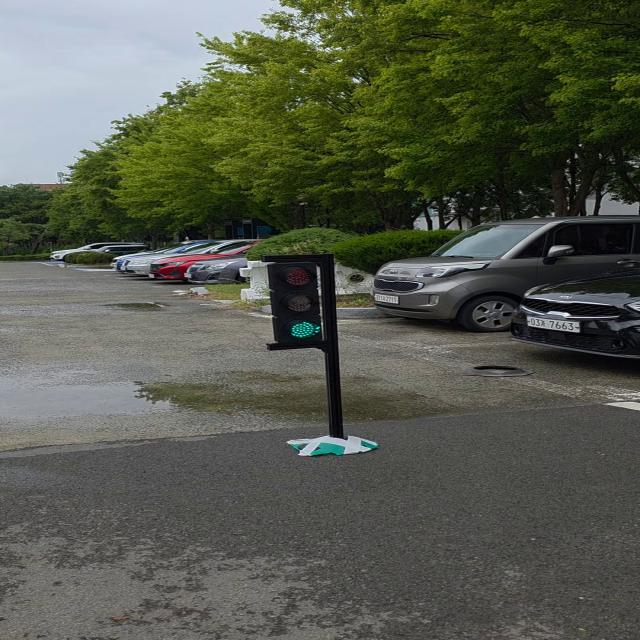green: (273, 256, 336, 348)
